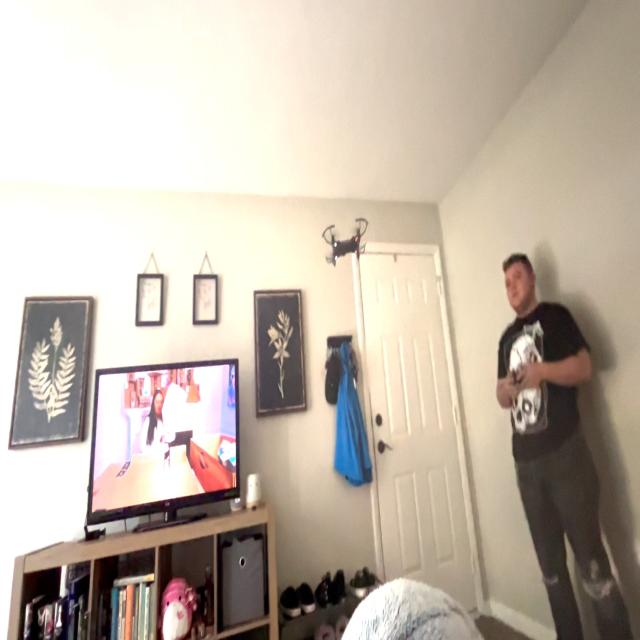drone: (318, 208, 376, 278)
